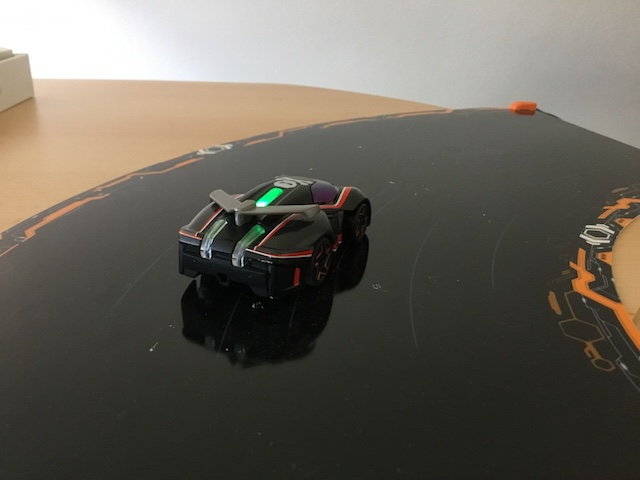car-red: (175, 172, 377, 308)
